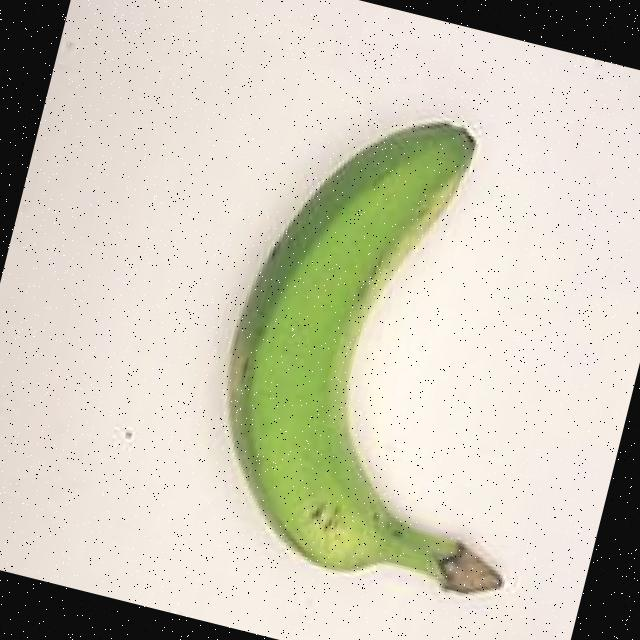Unripe: (153, 68, 640, 635)
